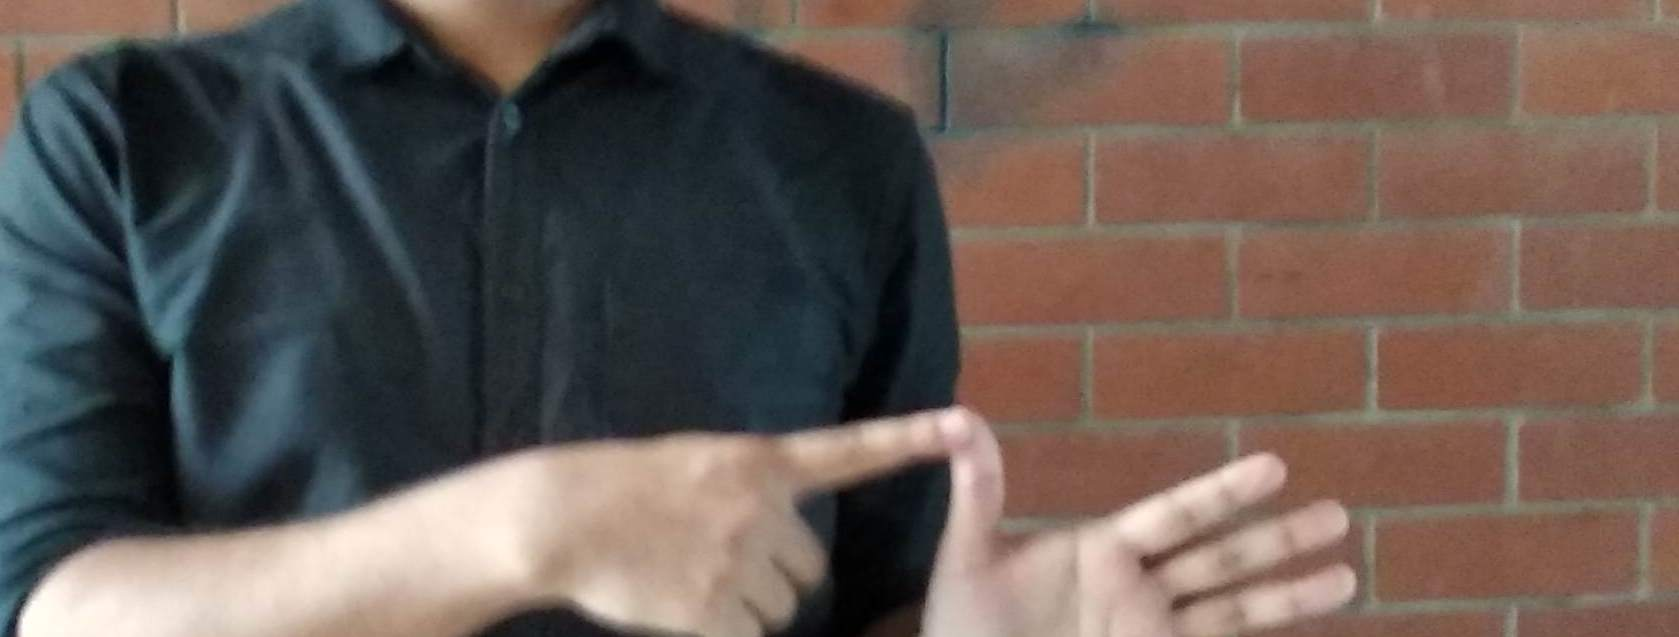a: (579, 399, 1304, 637)
